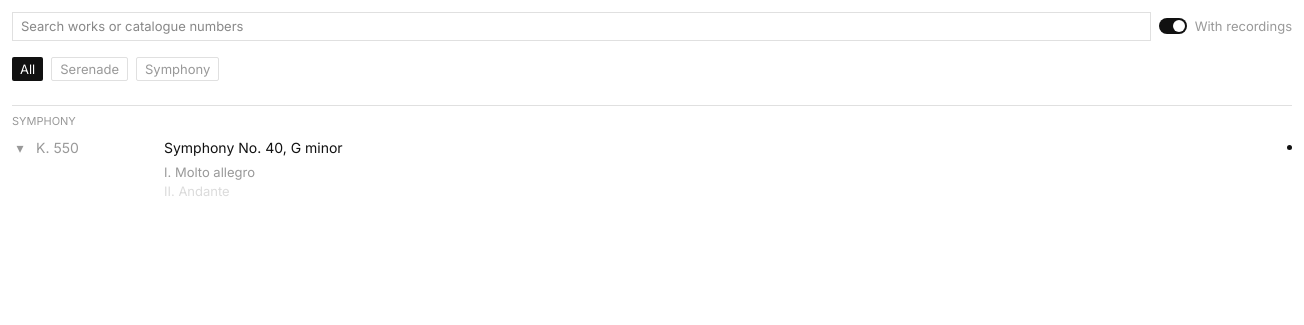
Test: WorksList › searches works by title or catalogue number
Click the switch labelled "With recordings": [1225, 26] box top-left (1159, 17), bottom-right (1292, 36)
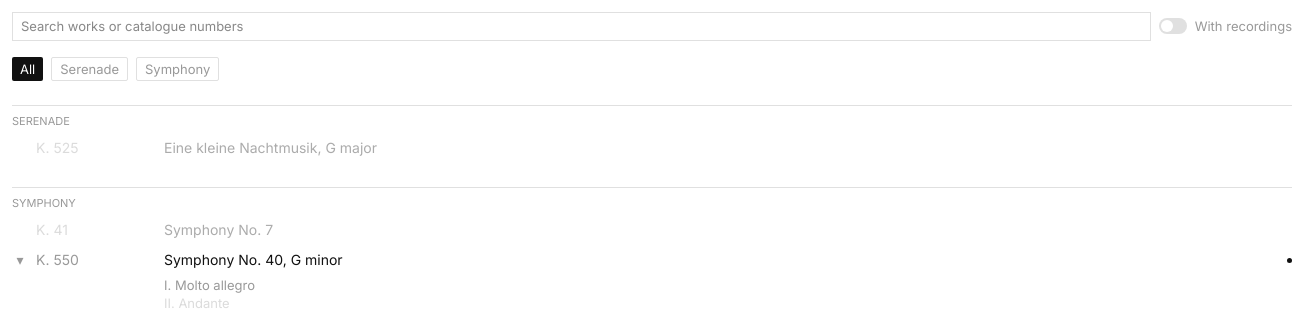
In the search field labelled "Search works": [581, 26] box top-left (12, 12), bottom-right (1151, 41), type "nachtmusik"
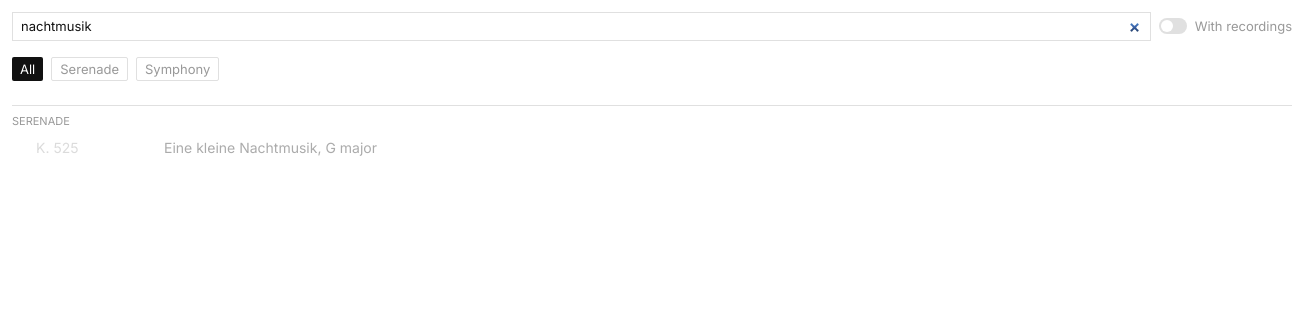
Replace the text in the search field named "Search works" with "k550": [581, 26] box top-left (12, 12), bottom-right (1151, 41)
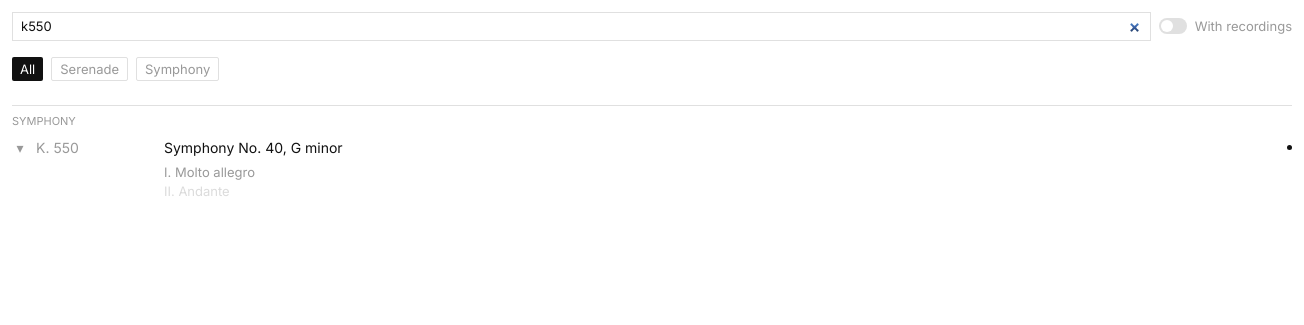
Replace the text in the search field named "Search works" with "requiem": [581, 26] box top-left (12, 12), bottom-right (1151, 41)
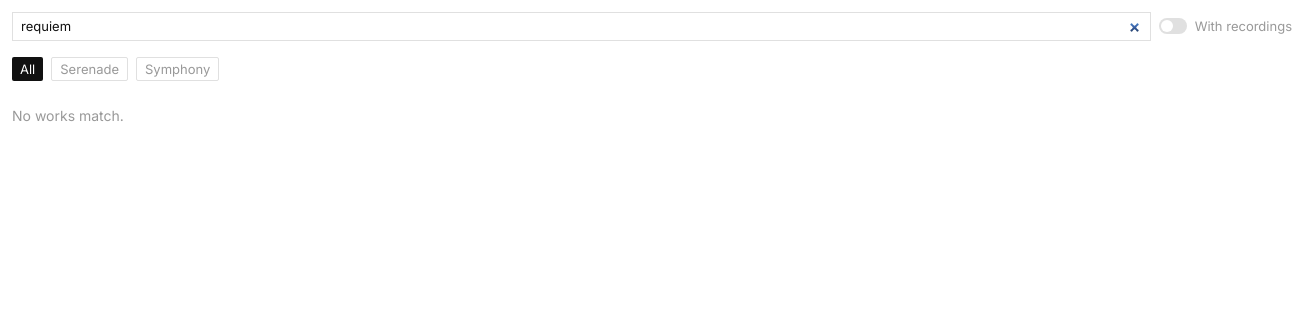
Now the text "No works match." is shown, box top-left (12, 107), bottom-right (124, 124)
